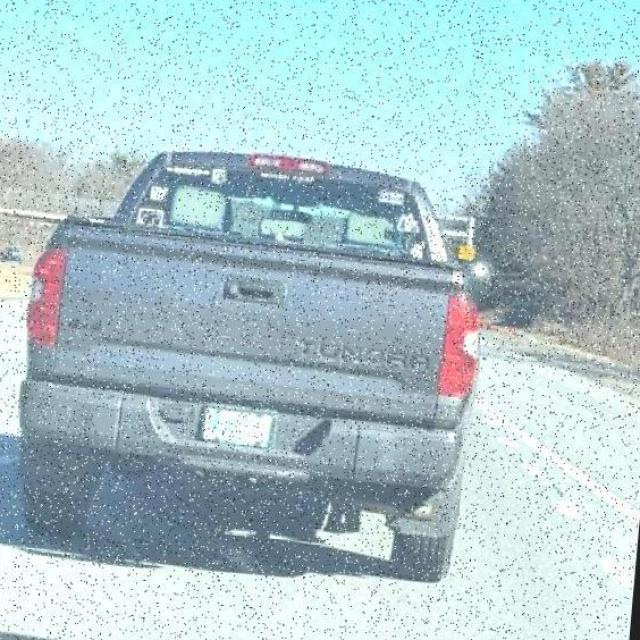license-plate: (188, 392, 326, 493)
